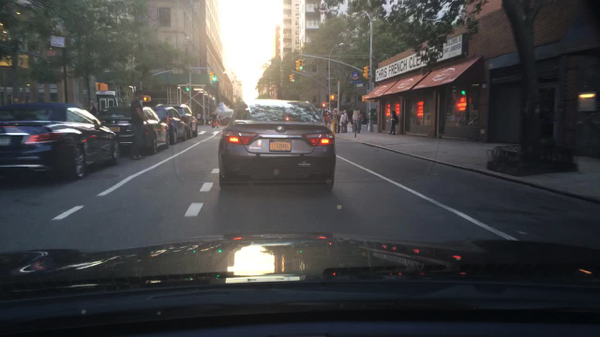car: (217, 98, 335, 191), (0, 103, 121, 181), (97, 105, 171, 155), (154, 103, 188, 144), (172, 103, 199, 138)
person: (128, 90, 150, 160), (388, 109, 400, 136), (355, 110, 363, 133), (342, 110, 350, 132), (87, 99, 96, 116), (335, 110, 341, 135), (338, 111, 345, 132), (323, 111, 330, 128), (211, 110, 215, 128), (330, 109, 335, 121), (197, 110, 201, 122)
traffic light: (362, 65, 371, 80), (97, 82, 107, 92), (294, 60, 300, 72), (287, 73, 293, 83), (142, 95, 150, 102), (320, 101, 327, 109), (328, 94, 336, 101), (211, 72, 216, 81), (290, 73, 295, 82), (299, 58, 303, 69), (185, 83, 189, 92)
traffic sign: (49, 34, 65, 48), (346, 78, 363, 88), (350, 71, 358, 80)
